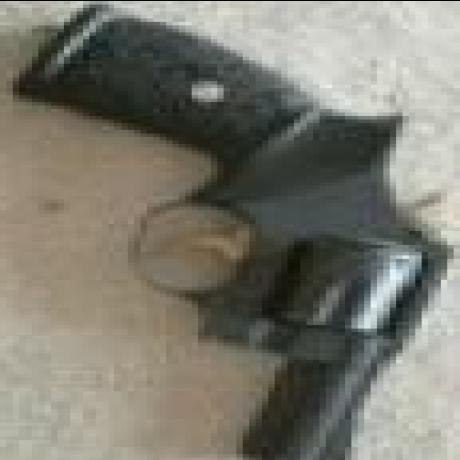weapon: (17, 8, 446, 460)
